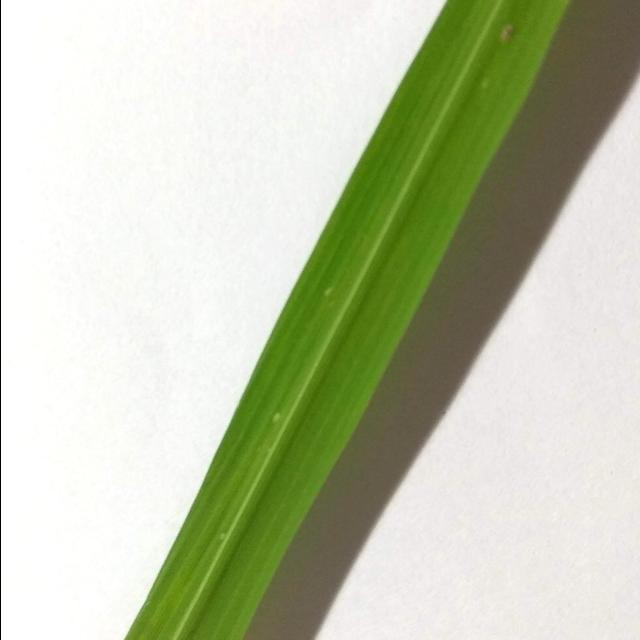healthy: (97, 0, 589, 640)
